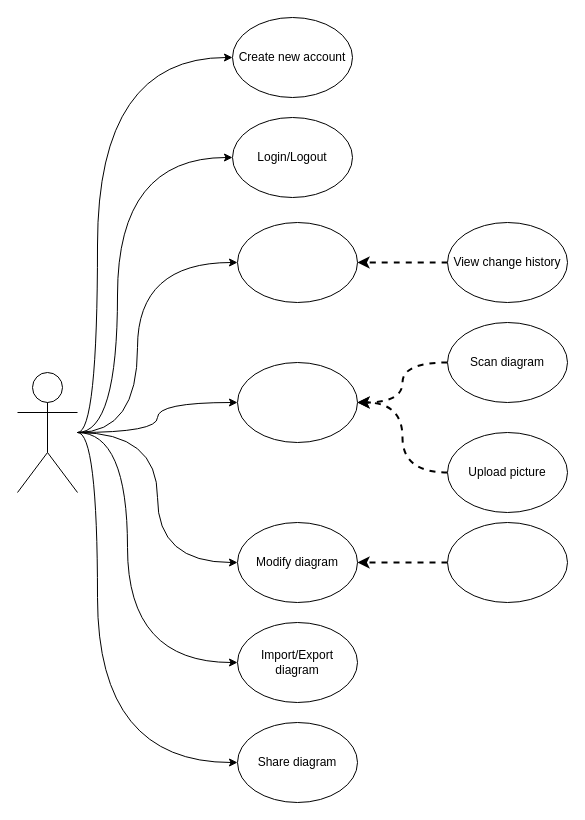
Some shapes in this 585 by 820 pixel diagram are drawn without their labels. The shapes that lost their labels are listed below. From the top down, each one's box as (x1, y1, x2, y2) in pixels, then its label:
(236, 222, 358, 302): View diagram
(236, 362, 358, 442): Create new diagram
(16, 372, 78, 492): User
(446, 522, 568, 602): Delete diagram
